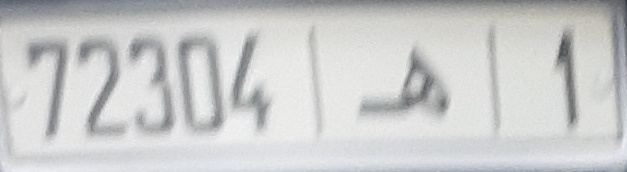0: (176, 34, 228, 136)
1: (552, 26, 583, 134)
2: (75, 35, 130, 139)
3: (124, 35, 177, 136)
4: (228, 30, 278, 136)
7: (24, 38, 68, 141)
h: (353, 42, 453, 120)
